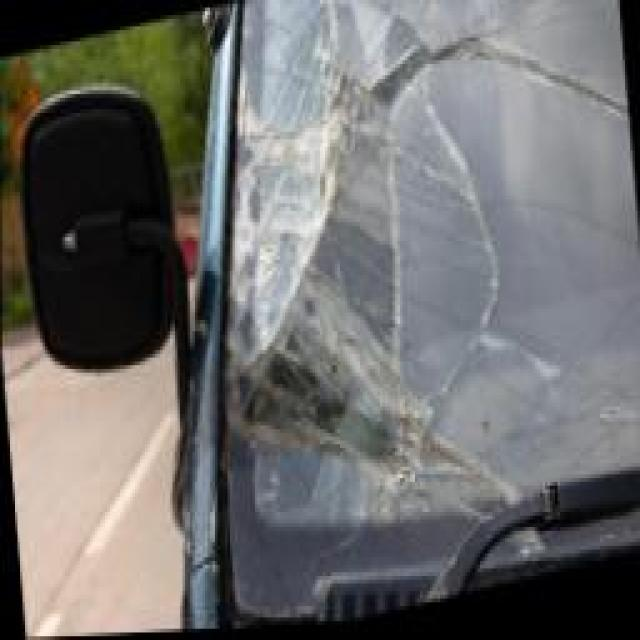Windshield: (190, 0, 640, 624)
